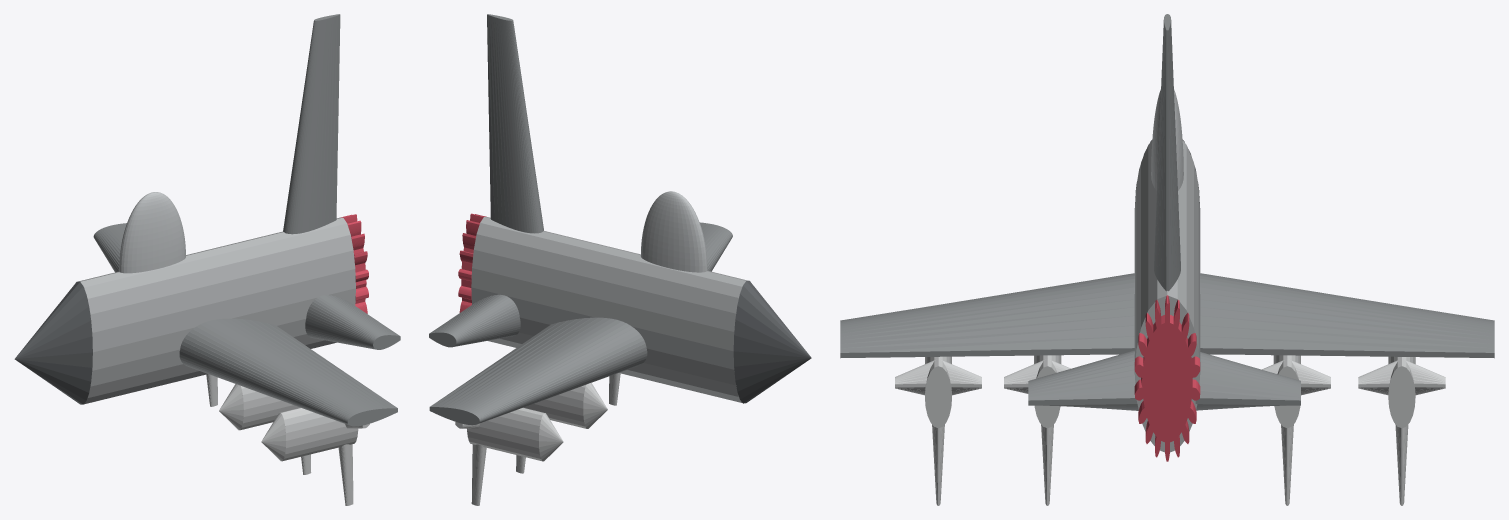
The model's file is jet (4).glb.
3 views of the same model, side by side, from view 1: azimuth 30°, elevation 25°; view 2: azimuth 150°, elevation 25°; view 3: azimuth 270°, elevation 25° (orthographic). The views are drawn at different scales.
Parts seen in each view (by area): view 1: Mesh_Mesh_head_geo.001_lambert2SG.001; view 2: Mesh_Mesh_head_geo.001_lambert2SG.001; view 3: Mesh_Mesh_head_geo.001_lambert2SG.001.
Part boxes in pixels (left/top/right/bottom): Mesh_Mesh_head_geo.001_lambert2SG.001: left=14, top=14, right=400, bottom=505; Mesh_Mesh_head_geo.001_lambert2SG.001: left=429, top=14, right=811, bottom=505; Mesh_Mesh_head_geo.001_lambert2SG.001: left=840, top=14, right=1494, bottom=505.
Size of the model in its own units: 35 by 39.71 by 45.
